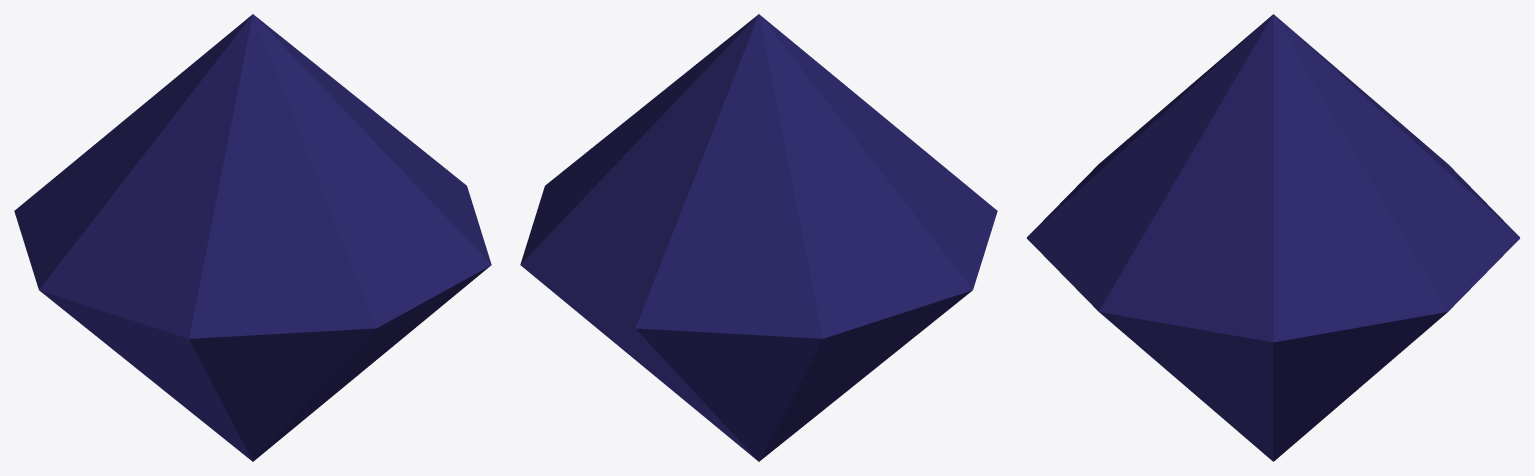
File: dice16phy.glb
3 renders of one model, left to right at view 1: azimuth 30°, elevation 25°; view 2: azimuth 150°, elevation 25°; view 3: azimuth 270°, elevation 25°, orthographic.
Visible parts, largest first — view 1: Cone; view 2: Cone; view 3: Cone.
Boxes of the visible parts, bbox=[...] form: Cone: bbox=[14, 14, 491, 461]; Cone: bbox=[520, 14, 997, 461]; Cone: bbox=[1027, 14, 1519, 461].
Size of the model in its own units: 8 by 8 by 8.
